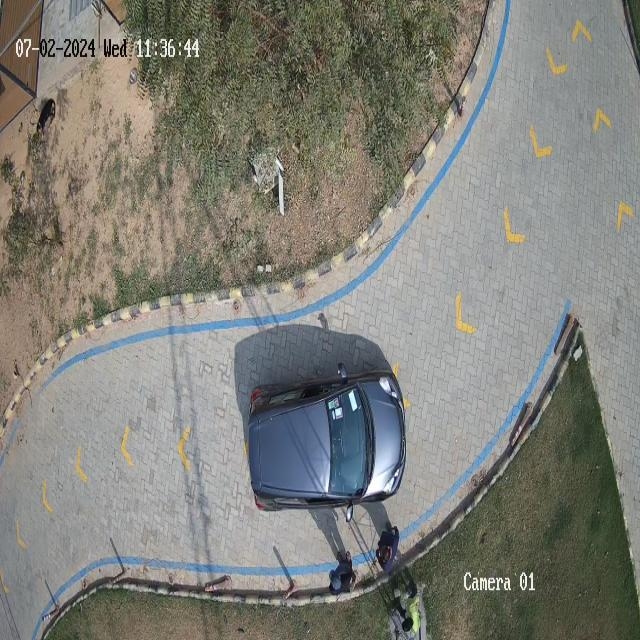car: (249, 364, 405, 519)
